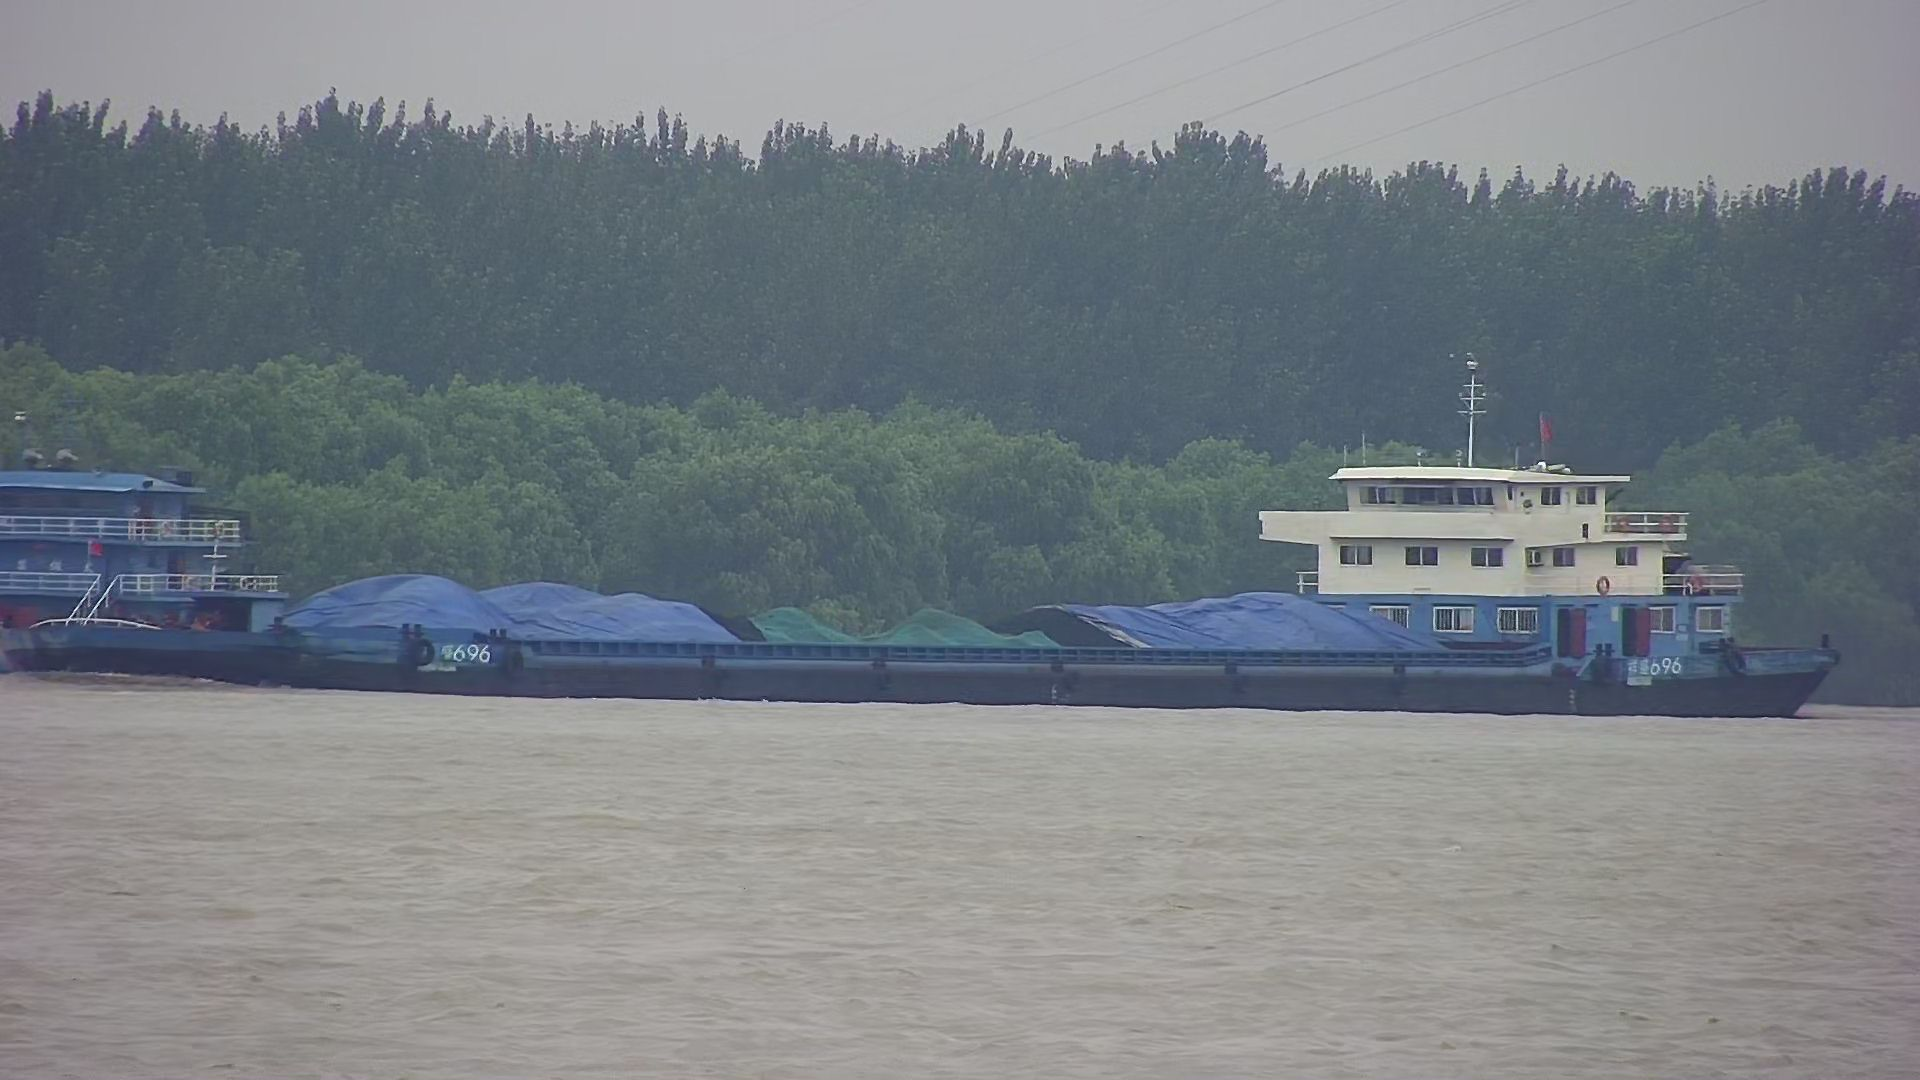ship: (1, 444, 1837, 720), (1, 390, 281, 691)
